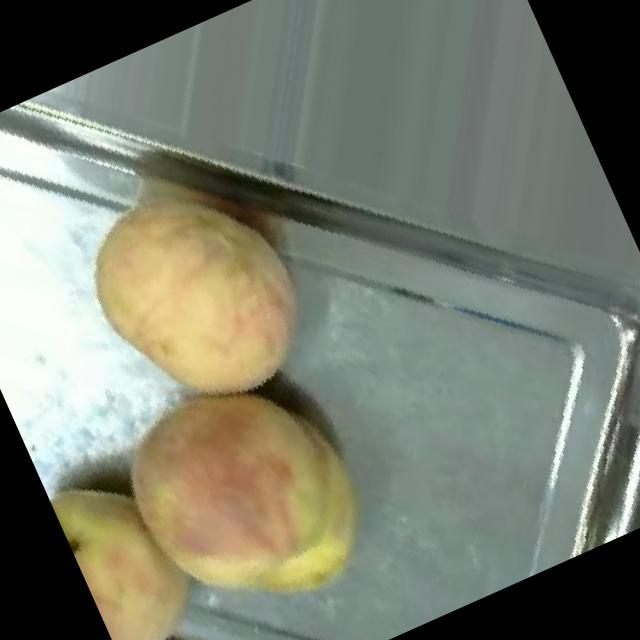Fruit: (54, 309, 435, 640), (23, 106, 366, 466)
